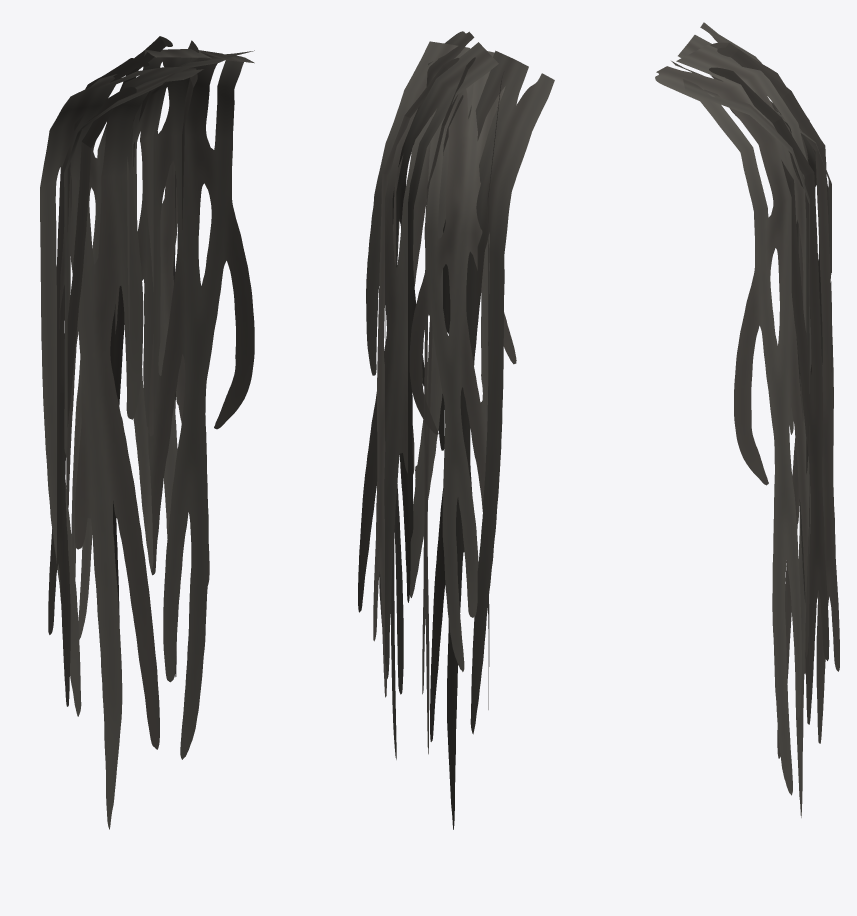
Rendered from Coast Roots.fbx.
3 renders of one model, left to right at view 1: azimuth 30°, elevation 25°; view 2: azimuth 150°, elevation 25°; view 3: azimuth 270°, elevation 25°, orthographic. The views are drawn at different scales.
Visible parts, largest first — view 1: Roots; view 2: Roots; view 3: Roots.
Boxes of the visible parts, left/top/right/bottom form: Roots: left=40, top=36, right=254, bottom=829; Roots: left=358, top=31, right=554, bottom=829; Roots: left=655, top=22, right=839, bottom=817.
Size of the model in its own units: 192 by 718 by 181.
